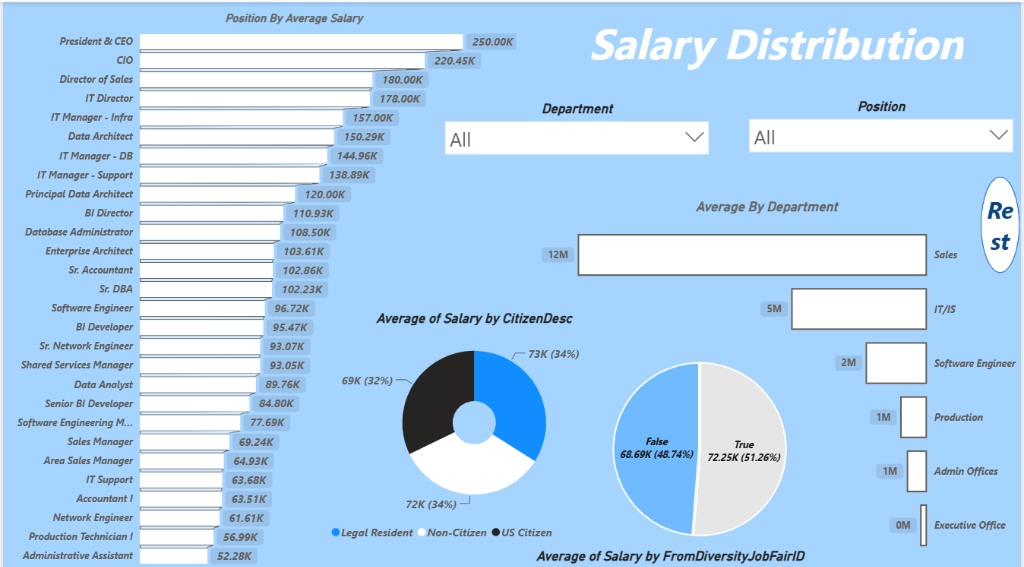

The dashboard page shown, as its layout file describes it:
{"tool":"powerbi","page":{"name":"Page 2","canvas":[1280,720],"ordinal":1},"visuals":[{"type":"barChart","title":"Position By Average Salary","fields":{"Category":["dim_position.position"],"Y":["Avg(Fact_table.Salary)"]},"box":[0,17,665.2,703],"z":0},{"type":"clusteredBarChart","fields":{"Category":["dim_department.Department"],"Y":["Sum(Fact_table.Salary)"]},"box":[663.2,251.4,616.1,466.8],"z":0,"group":"g2"},{"type":"pieChart","fields":{"Category":["dim_employees.FromDiversityJobFairID"],"Y":["Avg(Fact_table.Salary)"]},"box":[578.3,413.9,588.1,289.9],"z":0,"group":"g1"},{"type":"shape","title":"Position By Average Salary","box":[279.7,11.3,472.4,32.1],"z":1000},{"type":"shape","title":"Average By Department","box":[870.6,247.5,291,34],"z":1000,"group":"g2"},{"type":"shape","title":"Average of Salary by FromDiversityJobFairID","box":[669.3,685.6,528.9,34.5],"z":1000,"group":"g1"},{"type":"slicer","title":"Position","fields":{"Values":["dim_position.position"]},"box":[927.9,120.9,351.5,115.3],"z":2000,"group":"g2"},{"type":"group","id":"g1","title":"Group 1","box":[578.3,413.9,619.8,306.1],"z":2000},{"type":"donutChart","fields":{"Category":["dim_employees.CitizenDesc"],"Y":["Avg(Fact_table.Salary)"]},"box":[406.3,387.4,370.4,298.6],"z":3000},{"type":"shape","box":[665.2,11.3,614.2,75.6],"z":4000},{"type":"slicer","title":"Department","fields":{"Values":["dim_department.Department"]},"box":[546.1,122.8,351.5,115.3],"z":5000},{"type":"group","id":"g2","title":"Group 2","box":[663.2,120.9,616.2,597.3],"z":6000},{"type":"shape","box":[1229.3,219.1,49,121.1],"z":6001}]}

Visuals, with their boxes in screenshot pixels (x1, y1, x2, y2), scaled from the page's 1280x720 canvas onto the 1024x567 screenshot:
"Position By Average Salary" barChart: <bbox>0, 13, 532, 566</bbox>
clusteredBarChart - dim_department.Department x Sum(Fact_table.Salary): <bbox>531, 198, 1023, 566</bbox>
pieChart - dim_employees.FromDiversityJobFairID x Avg(Fact_table.Salary): <bbox>463, 326, 933, 554</bbox>
"Position By Average Salary" shape: <bbox>224, 9, 602, 34</bbox>
"Average By Department" shape: <bbox>696, 195, 929, 222</bbox>
"Average of Salary by FromDiversityJobFairID" shape: <bbox>535, 540, 959, 566</bbox>
"Position" slicer: <bbox>742, 95, 1023, 186</bbox>
"Group 1" group: <bbox>463, 326, 958, 566</bbox>
donutChart - dim_employees.CitizenDesc x Avg(Fact_table.Salary): <bbox>325, 305, 621, 540</bbox>
shape: <bbox>532, 9, 1023, 68</bbox>
"Department" slicer: <bbox>437, 97, 718, 188</bbox>
"Group 2" group: <bbox>531, 95, 1023, 566</bbox>
shape: <bbox>983, 173, 1023, 268</bbox>
